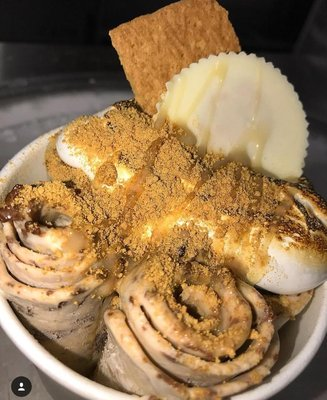sushi: (0, 34, 327, 399)
